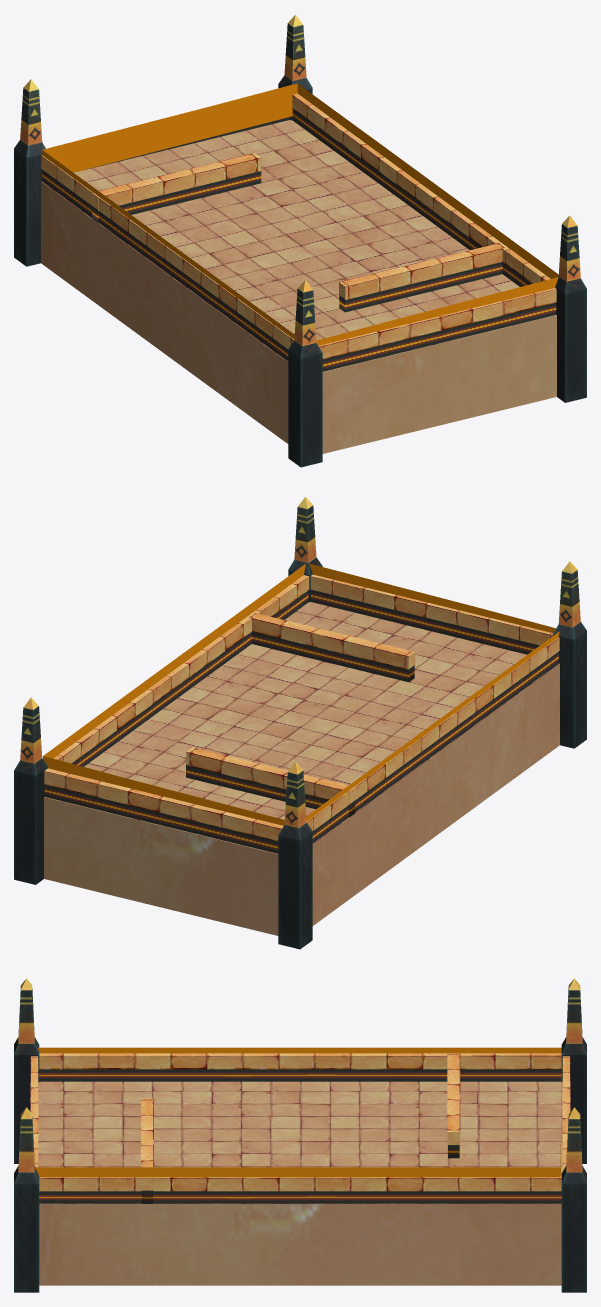
File: Boss_Stage 5 Variant.fbx
The picture shows the model from 3 angles, top to bottom: view 1: azimuth 30°, elevation 25°; view 2: azimuth 150°, elevation 25°; view 3: azimuth 270°, elevation 25°; orthographic projection.
Visible parts, largest first — view 1: Platform_Cube__2_.002, CR_Platform_Cube.077, Plane.192, CR_Platform_Cube.073, CR_Platform_Cube.075, CR_Platform_Cube.071, CR_Platform_Cube.034; view 2: Platform_Cube__2_.002, CR_Platform_Cube.077, CR_Platform_Cube.075, CR_Platform_Cube.073, Plane.192, CR_Platform_Cube.071, CR_Platform_Cube.034; view 3: Platform_Cube__2_.002, CR_Platform_Cube.073, CR_Platform_Cube.077, Plane.192, CR_Platform_Cube.075, CR_Platform_Cube.034, CR_Platform_Cube.071.
Part boxes in pixels (x1,y1,x2,y2): Platform_Cube__2_.002: (41, 120, 556, 453); CR_Platform_Cube.077: (14, 15, 586, 467); Plane.192: (42, 83, 558, 345); CR_Platform_Cube.073: (41, 93, 550, 361); CR_Platform_Cube.075: (86, 117, 556, 371); CR_Platform_Cube.071: (339, 242, 506, 312); CR_Platform_Cube.034: (92, 153, 261, 222); Platform_Cube__2_.002: (44, 602, 559, 935); CR_Platform_Cube.077: (14, 497, 586, 949); CR_Platform_Cube.075: (44, 574, 552, 853); CR_Platform_Cube.073: (53, 575, 559, 843); Plane.192: (43, 563, 559, 825); CR_Platform_Cube.071: (247, 612, 415, 682); CR_Platform_Cube.034: (186, 747, 355, 817); Platform_Cube__2_.002: (30, 1081, 570, 1285); CR_Platform_Cube.073: (39, 1053, 561, 1203); CR_Platform_Cube.077: (14, 978, 586, 1292); Plane.192: (35, 1047, 561, 1177); CR_Platform_Cube.075: (30, 1056, 570, 1170); CR_Platform_Cube.034: (447, 1053, 460, 1158); CR_Platform_Cube.071: (141, 1098, 153, 1203).
Size of the model in its own units: 3666 by 2230 by 6364.
